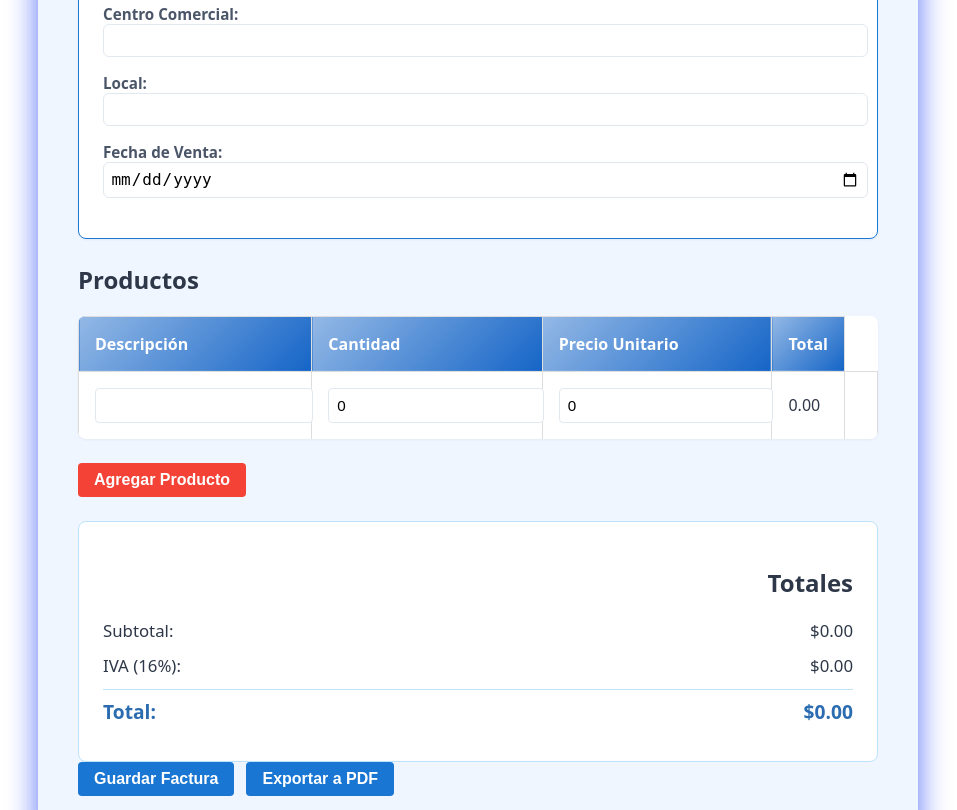
Scenario: FacturaGenerator Component › calcula subtotal al modificar cantidad y precio
(page scrolled)
Replace the text in the 1st number field with "2" at (436, 405), box [328, 388, 544, 423]
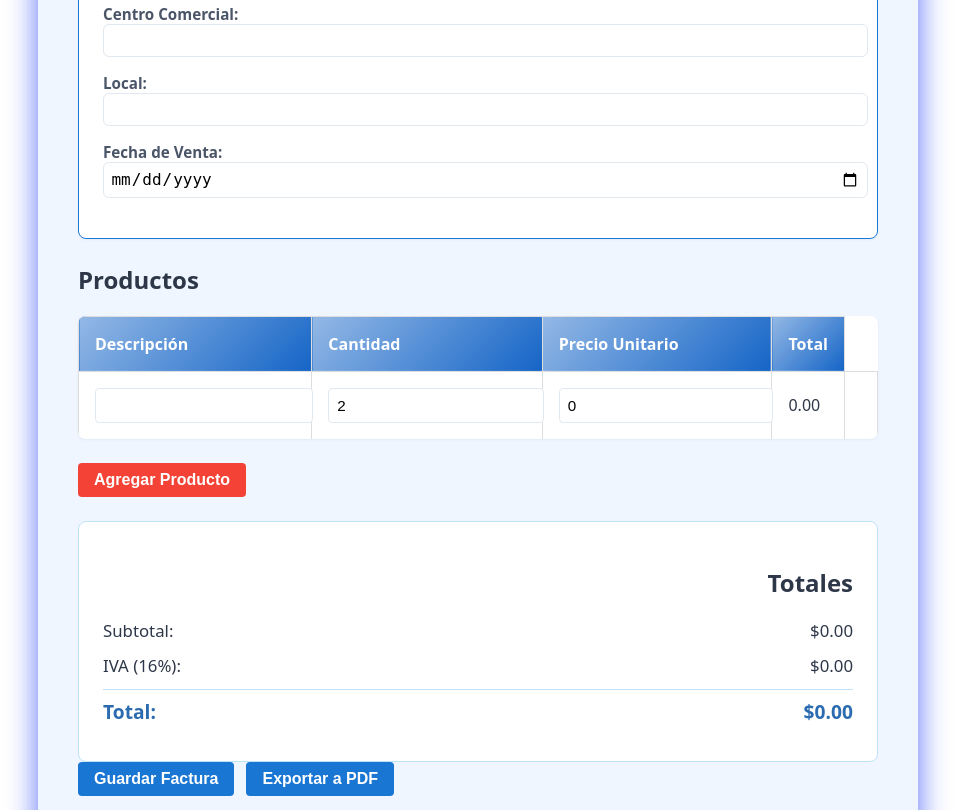
Replace the text in the 2nd number field with "10" at (666, 405), box [559, 388, 774, 423]
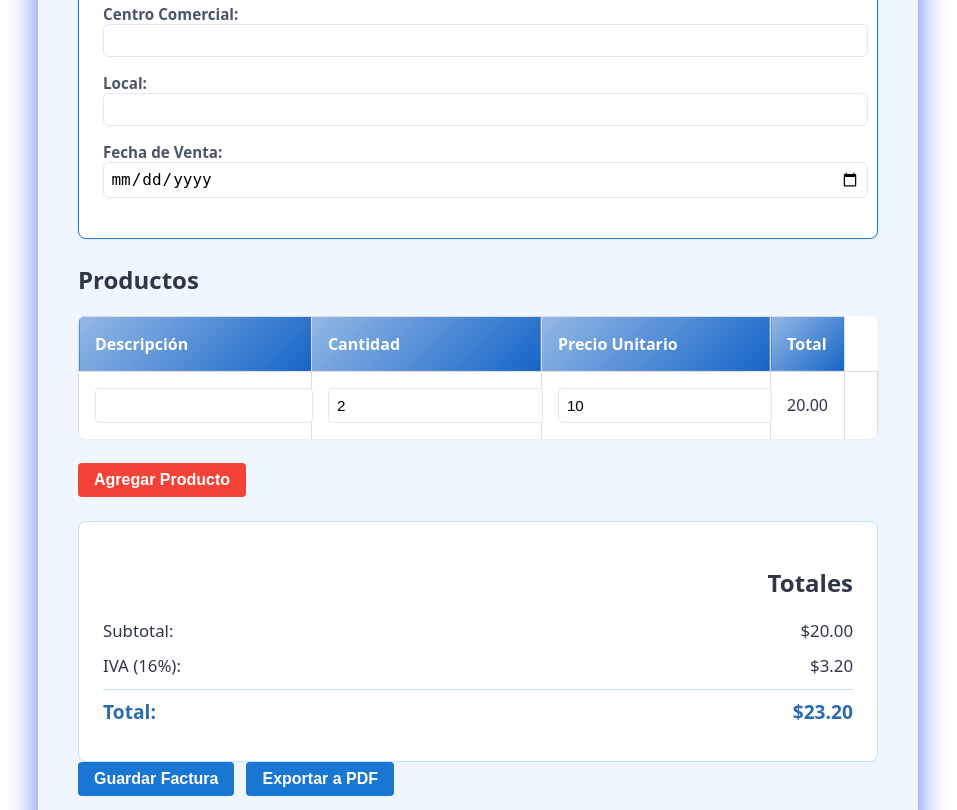
Result: the text "$20.00" is shown at [800, 618, 853, 642]
